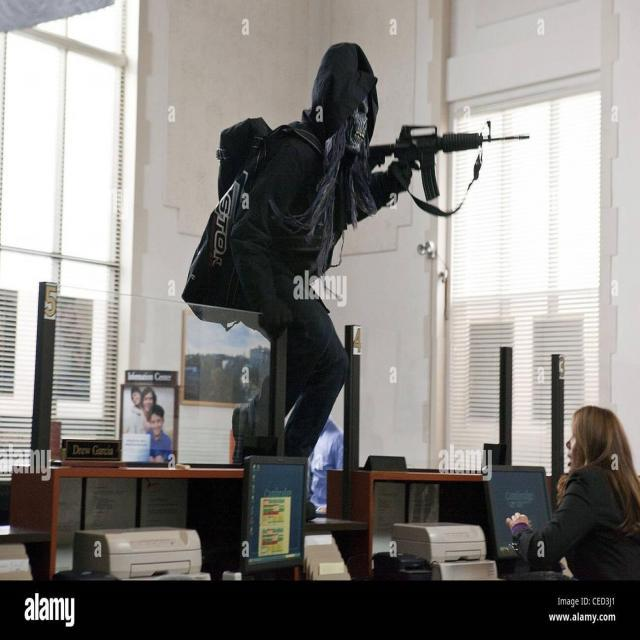gun: (366, 124, 530, 200)
